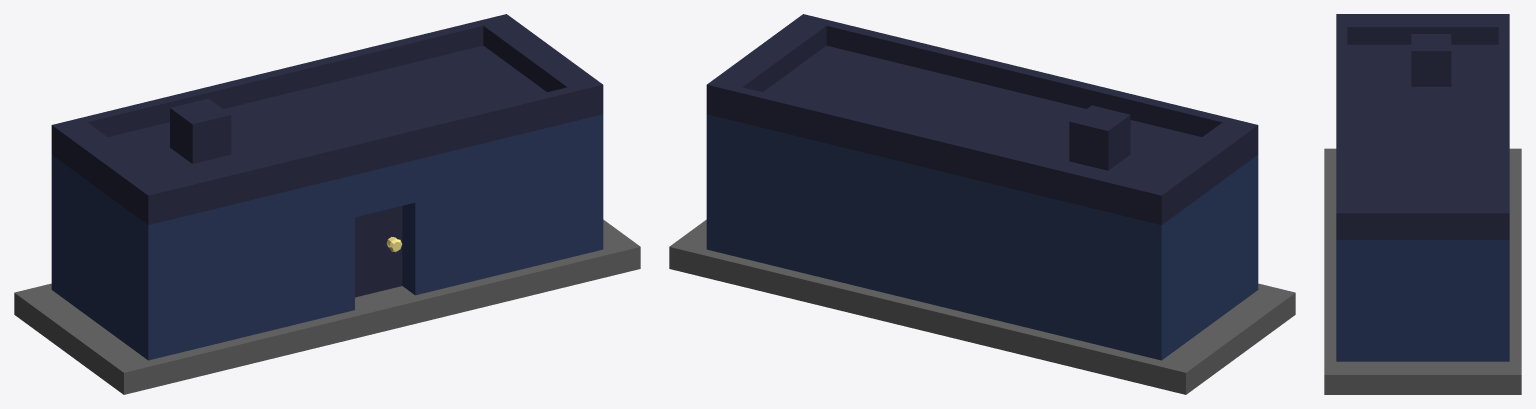
Rendered from Building 6.2.fbx.
3 views of the same model, side by side, from view 1: azimuth 30°, elevation 25°; view 2: azimuth 150°, elevation 25°; view 3: azimuth 270°, elevation 25° (orthographic). The views are drawn at different scales.
Parts seen in each view (by area): view 1: Cube; view 2: Cube; view 3: Cube.
Boxes of the visible parts, left/top/right/bottom form: Cube: left=14, top=14, right=640, bottom=394; Cube: left=669, top=14, right=1295, bottom=394; Cube: left=1324, top=14, right=1521, bottom=394.
Size of the model in its own units: 1079 by 413 by 397.
